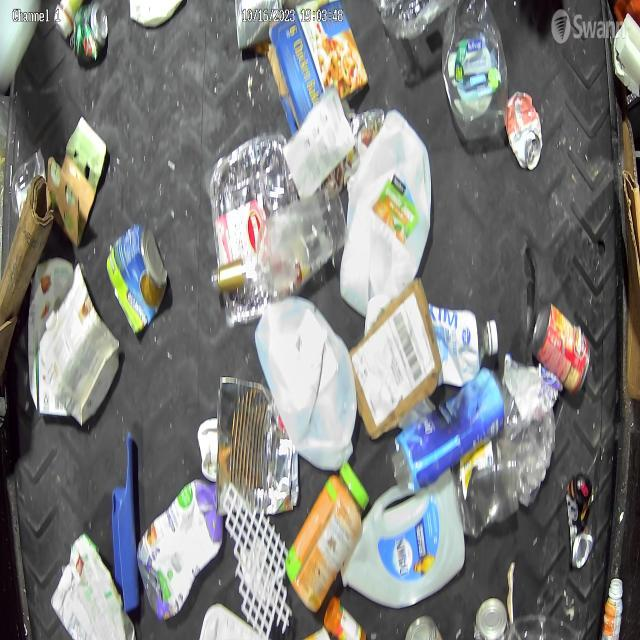can: (216, 376, 300, 516), (106, 222, 170, 336), (531, 302, 593, 398), (505, 90, 542, 170), (566, 472, 595, 568), (70, 0, 108, 65), (474, 597, 508, 640), (404, 614, 446, 640)
milk_jug: (340, 109, 433, 318), (254, 296, 358, 470), (340, 478, 466, 610), (39, 266, 121, 425)
non_white_jug: (137, 480, 224, 622)
plastic_bottle: (250, 180, 348, 298), (442, 0, 508, 142)
